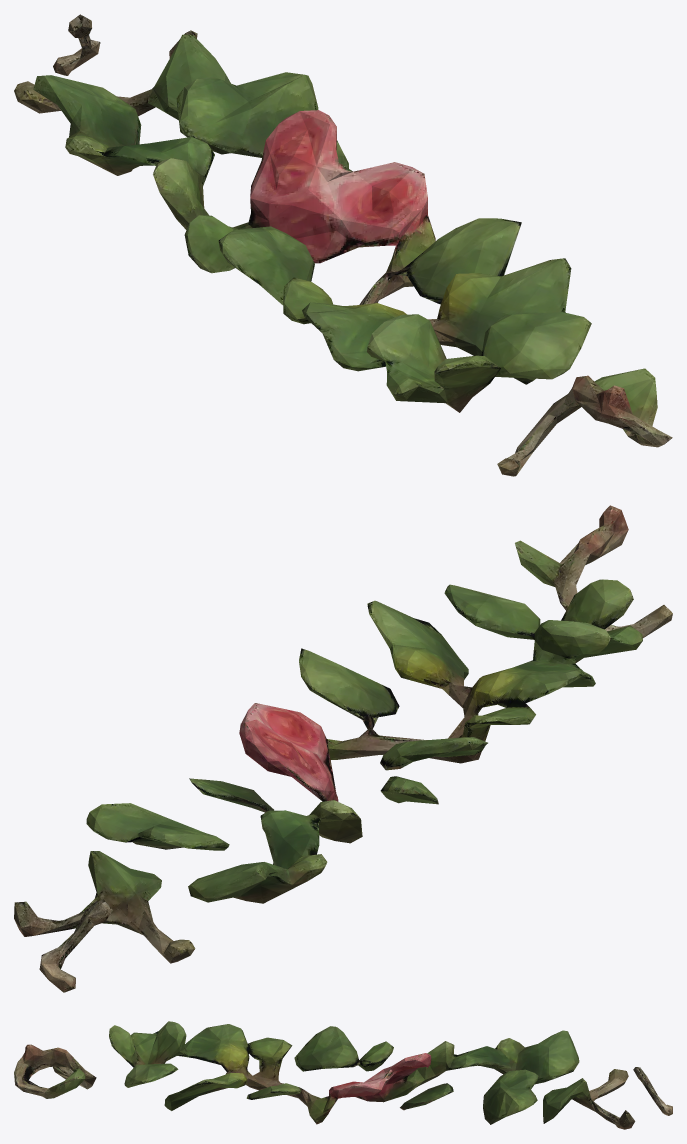
The picture shows the model from 3 angles, top to bottom: view 1: azimuth 30°, elevation 25°; view 2: azimuth 150°, elevation 25°; view 3: azimuth 270°, elevation 25°; orthographic projection. The views are drawn at different scales.
Parts seen in each view (by area): view 1: world; view 2: world; view 3: world.
Boxes of the visible parts, x1,y1,x2,y2 form: world: (14,14,672,476); world: (14,505,672,992); world: (14,1021,672,1129).
Size of the model in its own units: 0.261 by 0.115 by 0.9998.
Materials: 1 (1 with a texture image).
